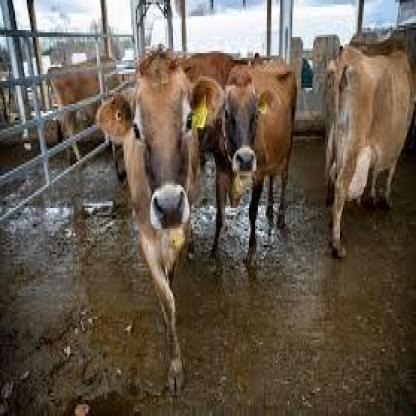cow: (97, 48, 225, 398), (322, 43, 416, 260), (205, 60, 296, 277), (48, 54, 126, 166), (175, 52, 234, 172)
